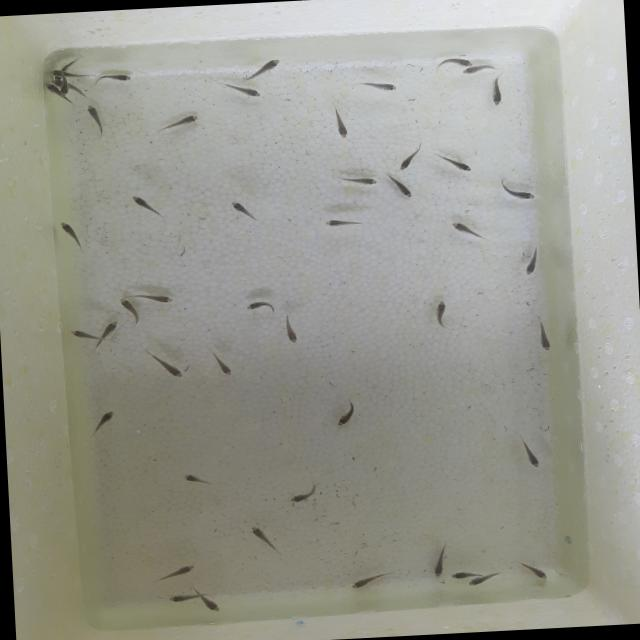fingerling: (146, 345, 188, 383), (248, 521, 286, 556), (349, 569, 400, 592), (130, 194, 169, 224), (448, 217, 488, 246), (58, 219, 92, 253), (152, 562, 200, 584), (243, 56, 286, 80), (116, 296, 148, 328), (285, 478, 321, 506), (498, 178, 538, 203), (393, 140, 423, 173), (158, 112, 202, 134), (516, 555, 550, 583), (208, 348, 236, 382), (226, 198, 262, 224), (84, 102, 110, 138), (88, 408, 119, 438), (96, 318, 126, 349), (533, 316, 556, 355), (333, 172, 382, 190), (355, 78, 403, 96), (520, 244, 544, 278), (182, 471, 222, 491), (136, 288, 180, 306), (332, 400, 358, 430), (219, 82, 262, 100), (331, 107, 354, 140), (432, 300, 454, 332), (390, 175, 416, 202), (321, 216, 370, 230), (443, 154, 474, 176), (458, 62, 499, 78), (426, 56, 472, 70), (522, 443, 544, 471), (196, 594, 225, 614), (488, 75, 506, 106), (464, 574, 500, 589), (243, 299, 275, 314), (282, 320, 300, 346), (429, 554, 447, 580), (67, 327, 97, 342), (99, 71, 131, 85), (166, 593, 198, 604), (446, 570, 474, 580), (49, 68, 69, 80), (42, 82, 56, 95), (59, 84, 72, 98)
